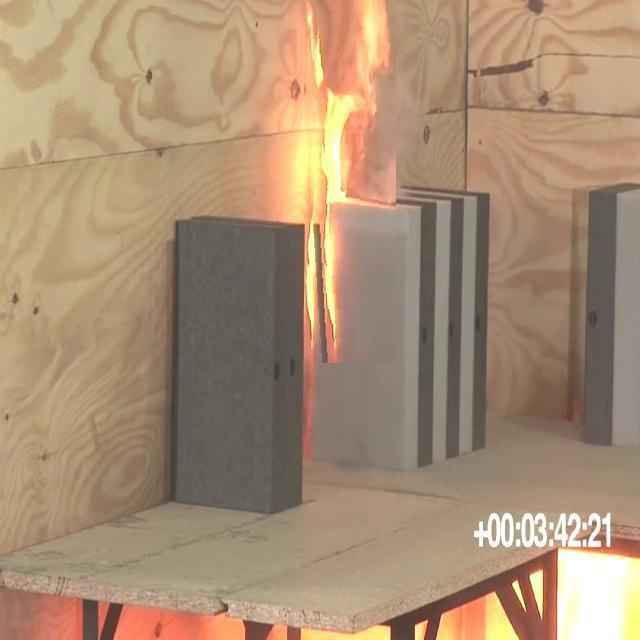fire: (278, 1, 400, 388)
